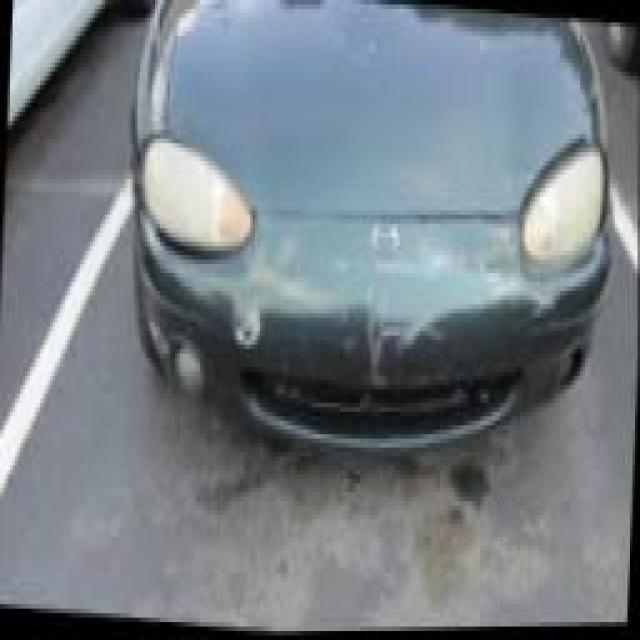Bumper: (136, 200, 611, 460)
